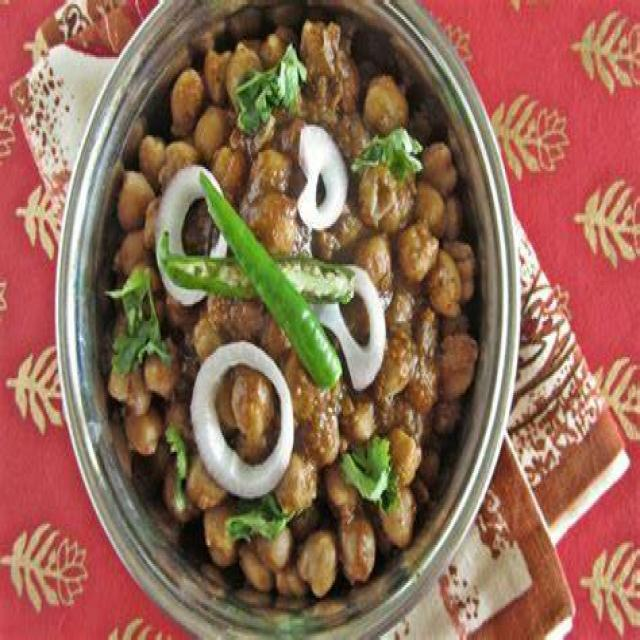Chole: (108, 19, 478, 598)
